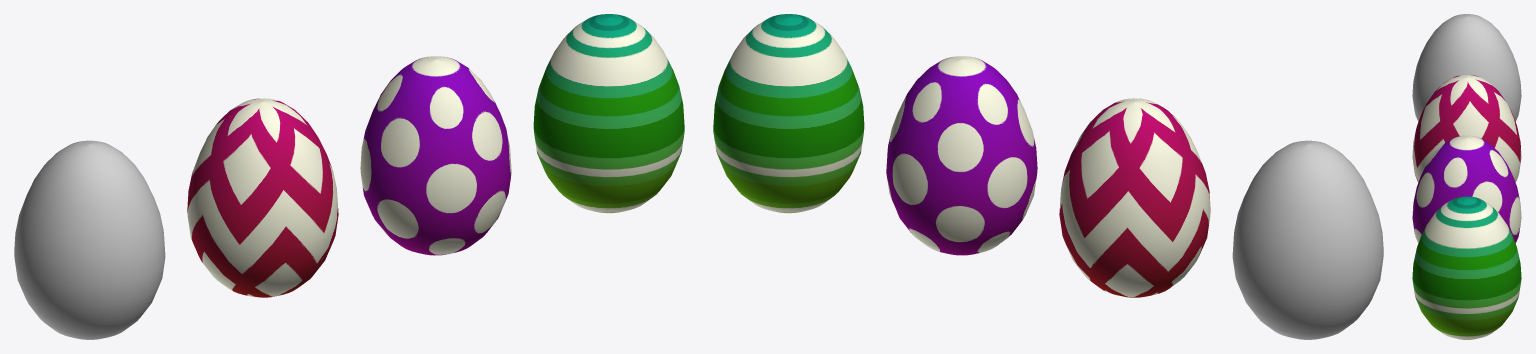
Rendered from Easter_Eggs_Low_Poly.obj.
3 views of the same model, side by side, from view 1: azimuth 30°, elevation 25°; view 2: azimuth 150°, elevation 25°; view 3: azimuth 270°, elevation 25° (orthographic). The views are drawn at different scales.
Parts seen in each view (by area): view 1: EGG2_Sphere, EGG3_Sphere.003, EGG4_Sphere.004, EGG1_Sphere.002; view 2: EGG2_Sphere, EGG3_Sphere.003, EGG4_Sphere.004, EGG1_Sphere.002; view 3: EGG1_Sphere.002, EGG2_Sphere, EGG4_Sphere.004, EGG3_Sphere.003.
Boxes of the visible parts, x1,y1,x2,y2 form: EGG2_Sphere: (360,56,511,255); EGG3_Sphere.003: (187,98,338,297); EGG4_Sphere.004: (14,140,165,339); EGG1_Sphere.002: (533,14,684,213); EGG2_Sphere: (886,56,1037,255); EGG3_Sphere.003: (1059,98,1210,297); EGG4_Sphere.004: (1232,140,1383,339); EGG1_Sphere.002: (713,14,864,213); EGG1_Sphere.002: (1412,196,1521,339); EGG2_Sphere: (1412,135,1521,243); EGG4_Sphere.004: (1412,14,1521,121); EGG3_Sphere.003: (1412,75,1521,182).
Bounding box in the file's own units: 11.28 × 3.12 × 2.28.
